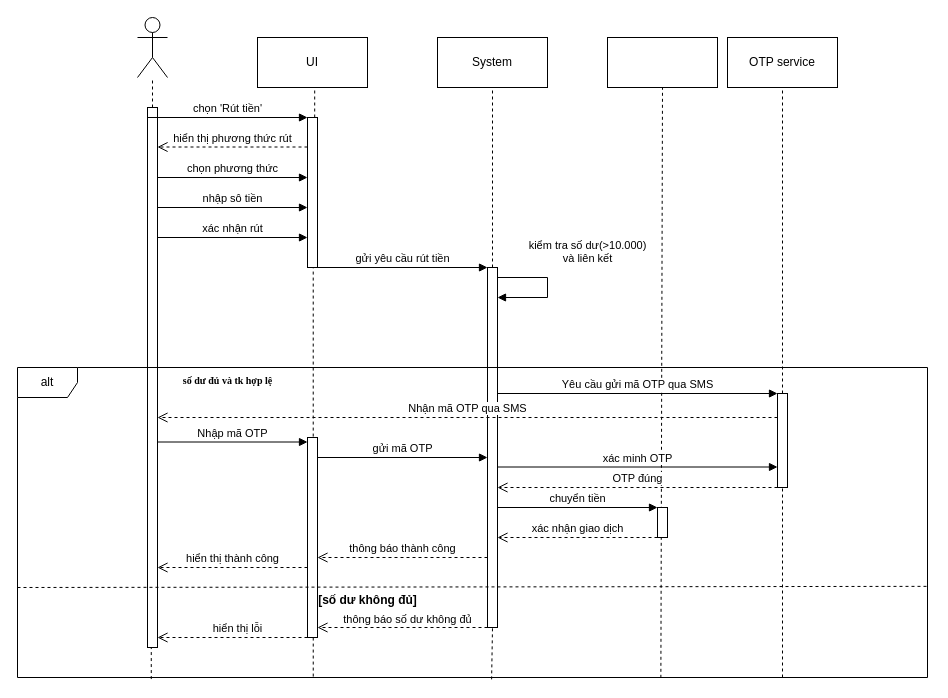
Image size: 948x698. Some labels were removed from this diagram. The shapes that lost their labels are listed below. From the top down, each one's centre as x and y in pixels, then its label:
the point at 152,47: Actor
the point at 662,62: Bank/Wallet
